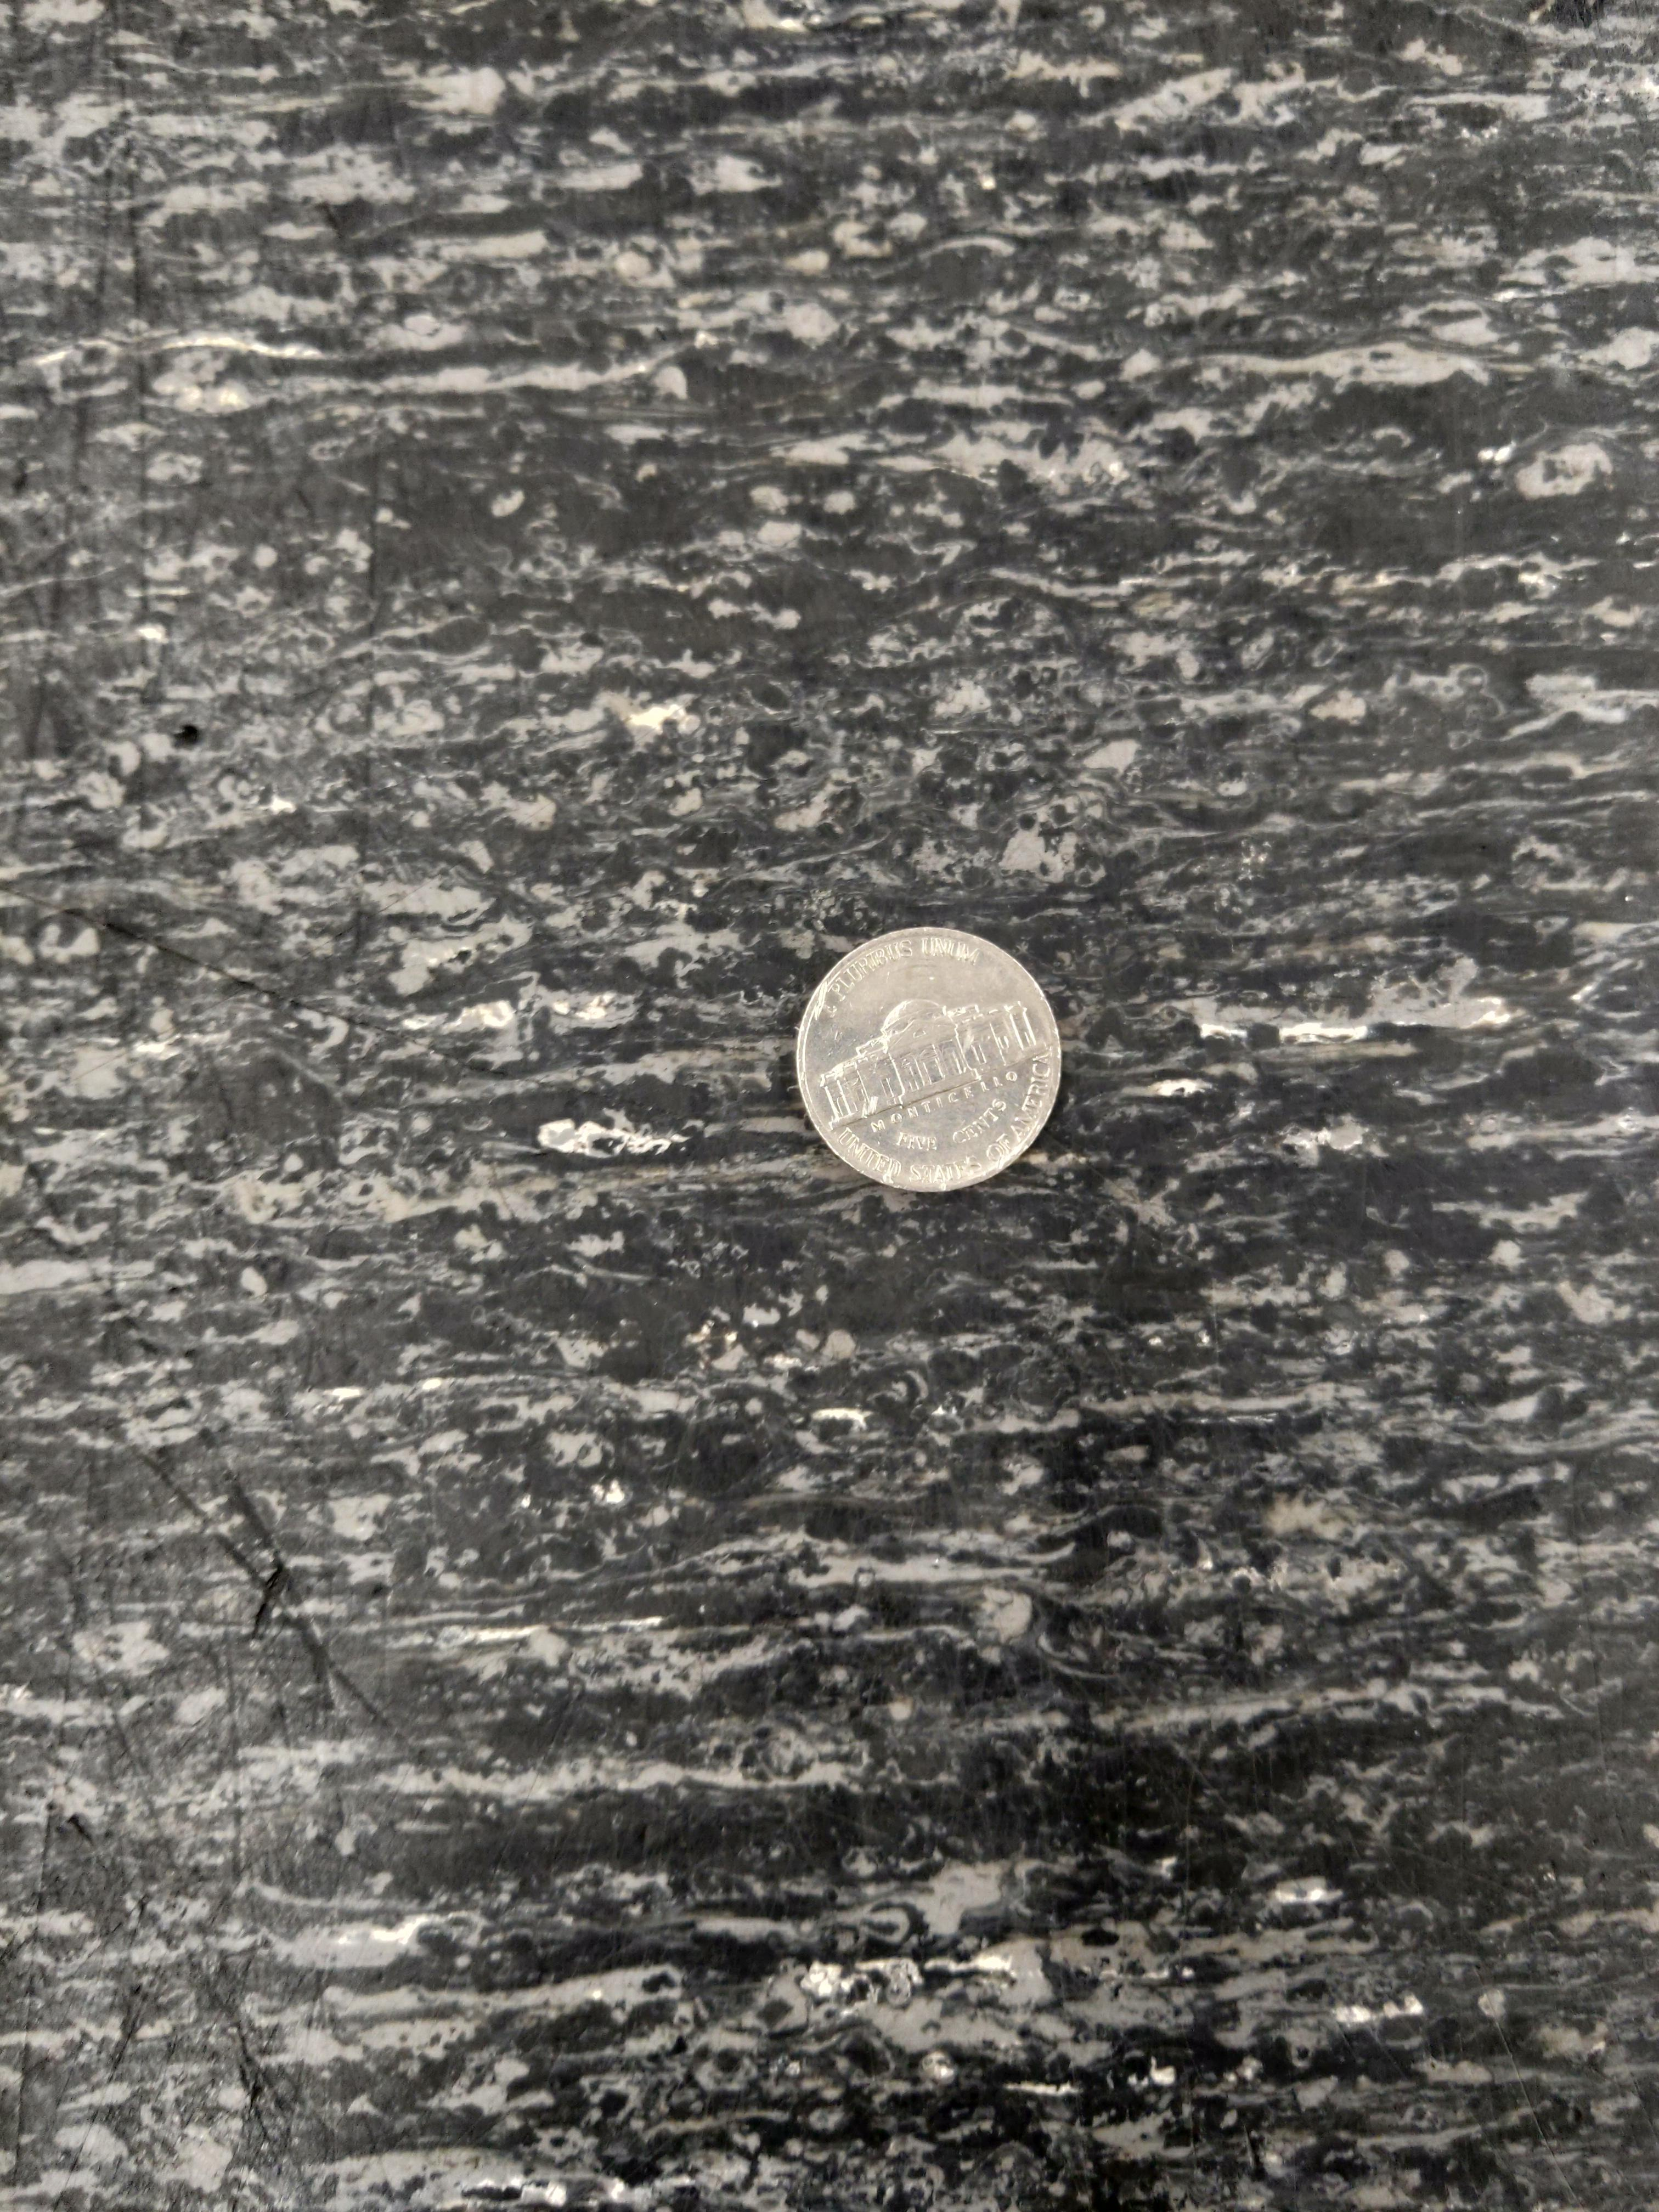Nickel: (795, 923, 1066, 1195)
